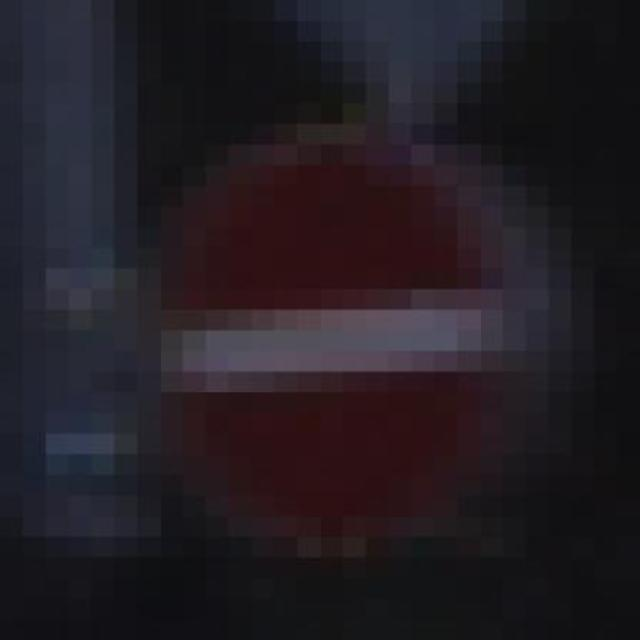B2: (146, 133, 518, 552)
